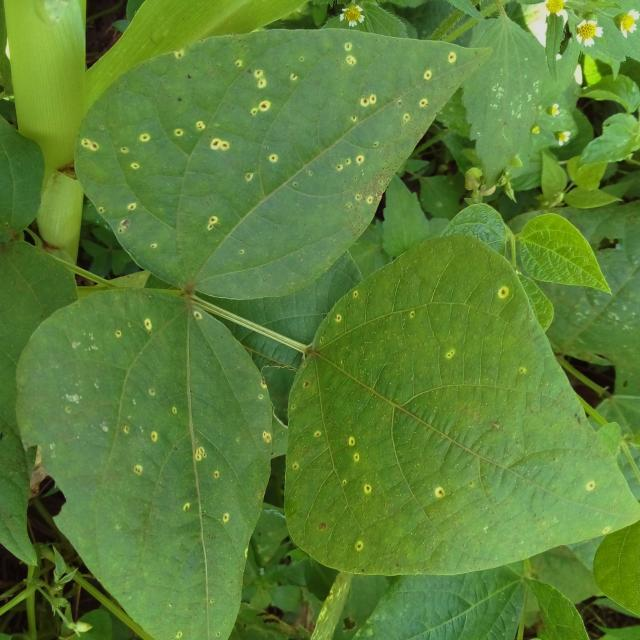hawar: (69, 78, 619, 618)
